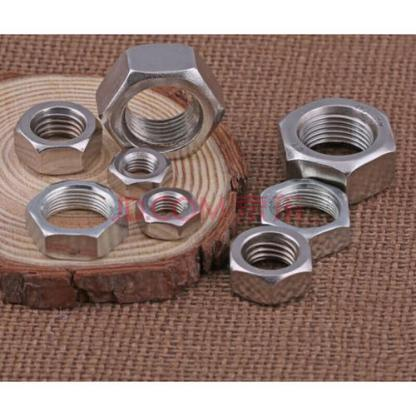FOD: (94, 41, 229, 160), (280, 94, 401, 205), (21, 178, 127, 260), (260, 176, 354, 263), (226, 224, 314, 308), (13, 99, 101, 171), (105, 140, 175, 201), (134, 184, 207, 240)
